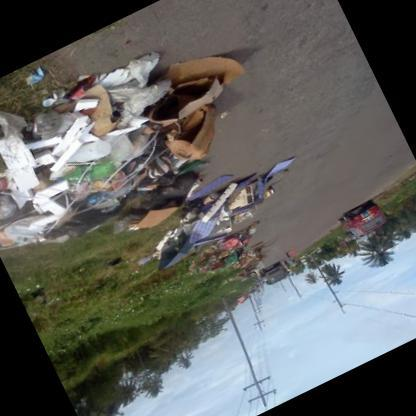Garbage: (0, 30, 218, 263), (132, 95, 230, 188), (51, 121, 136, 201), (16, 49, 100, 125), (0, 179, 74, 254), (0, 117, 45, 207), (42, 70, 109, 126), (60, 142, 122, 195), (217, 214, 266, 262), (13, 60, 48, 92), (246, 240, 272, 262), (201, 258, 222, 276)
